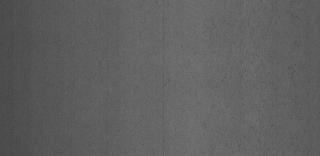silk spot: (190, 4, 312, 146)
